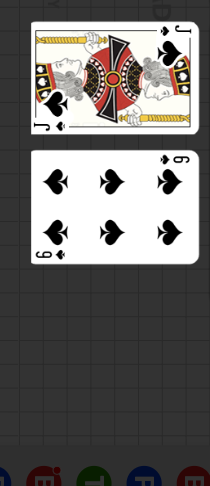6S: (157, 154, 191, 167), (34, 248, 67, 260)
JS: (33, 89, 80, 133), (154, 22, 200, 66)
